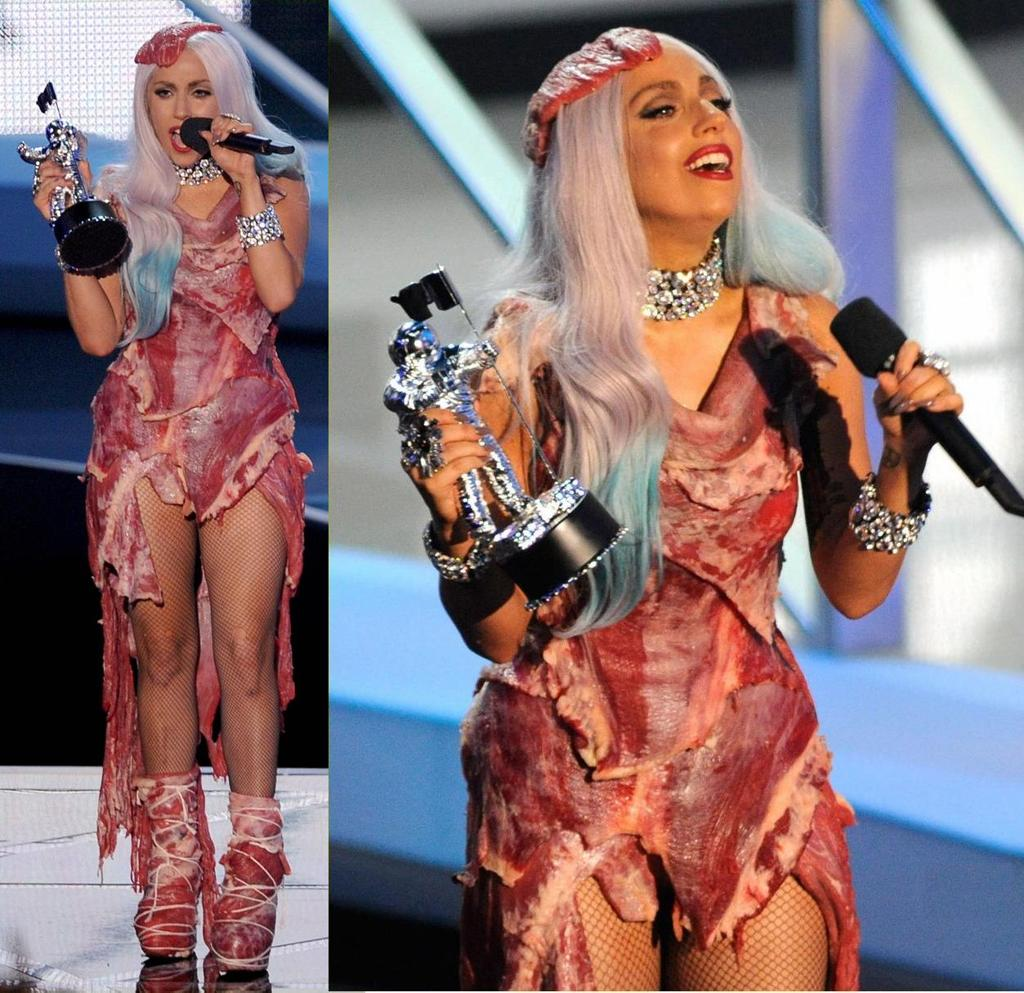face: (608, 48, 744, 220), (146, 54, 226, 166)
